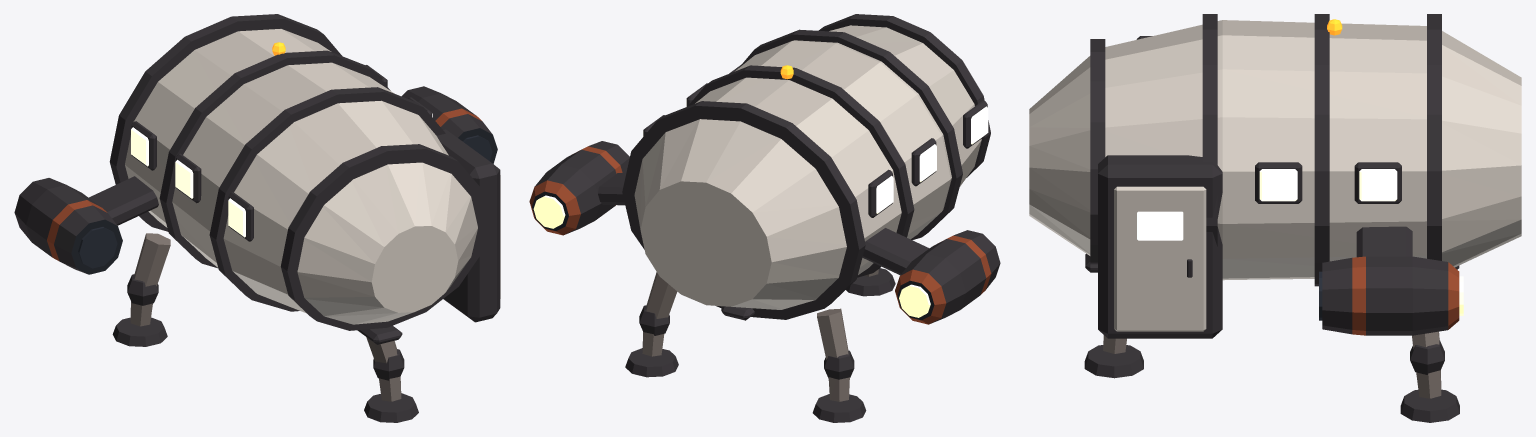
The model's file is emb-p_gelandet.glb.
3 views of the same model, side by side, from view 1: azimuth 30°, elevation 25°; view 2: azimuth 150°, elevation 25°; view 3: azimuth 270°, elevation 25° (orthographic). The views are drawn at different scales.
Visible parts, largest first — view 1: kapsel, rahmen, triebwerk_r, türmodul, landebein_3, fenster, landebein_1, triebwerk_l, ausleger; view 2: kapsel, rahmen, triebwerk_r, triebwerk_l, landebein_3, landebein_2, fenster, ausleger, landebein_1; view 3: kapsel, tür, rahmen, triebwerk_l, türmodul, fenster, landebein_2, landebein_1, ausleger.
Part boxes in pixels (box(x1,y1,x2,y2)): kapsel: box(125, 29, 477, 324); rahmen: box(109, 14, 488, 344); triebwerk_r: box(14, 178, 122, 274); türmodul: box(437, 129, 500, 322); landebein_3: box(112, 233, 170, 346); fenster: box(131, 65, 432, 241); landebein_1: box(364, 337, 418, 422); triebwerk_l: box(401, 86, 497, 163); ausleger: box(89, 176, 158, 225); kapsel: box(634, 25, 981, 309); rahmen: box(622, 14, 990, 320); triebwerk_r: box(895, 230, 1000, 324); triebwerk_l: box(529, 141, 629, 235); landebein_3: box(812, 308, 866, 422); landebein_2: box(625, 272, 678, 377); fenster: box(643, 83, 988, 217); ausleger: box(598, 173, 929, 275); landebein_1: box(846, 268, 895, 296); kapsel: box(1029, 20, 1521, 280); tür: box(1114, 186, 1206, 331); rahmen: box(1085, 14, 1459, 286); triebwerk_l: box(1319, 256, 1463, 335); türmodul: box(1098, 155, 1222, 338); fenster: box(1136, 36, 1401, 203); landebein_2: box(1400, 331, 1459, 422); landebein_1: box(1084, 335, 1143, 378); ausleger: box(1356, 226, 1412, 257).
Bounding box in the file's own units: 0.1135 × 0.0747 × 0.0987.
